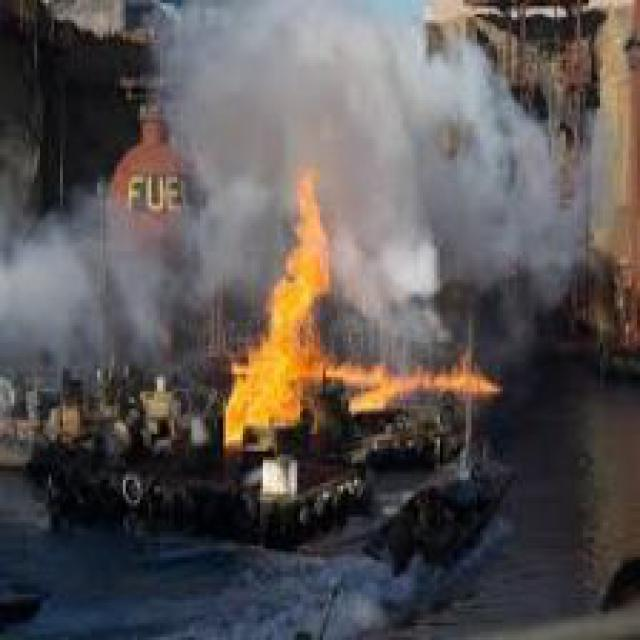fire: (223, 177, 506, 437)
